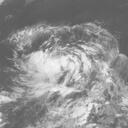cyclone: (19, 41, 86, 95)
